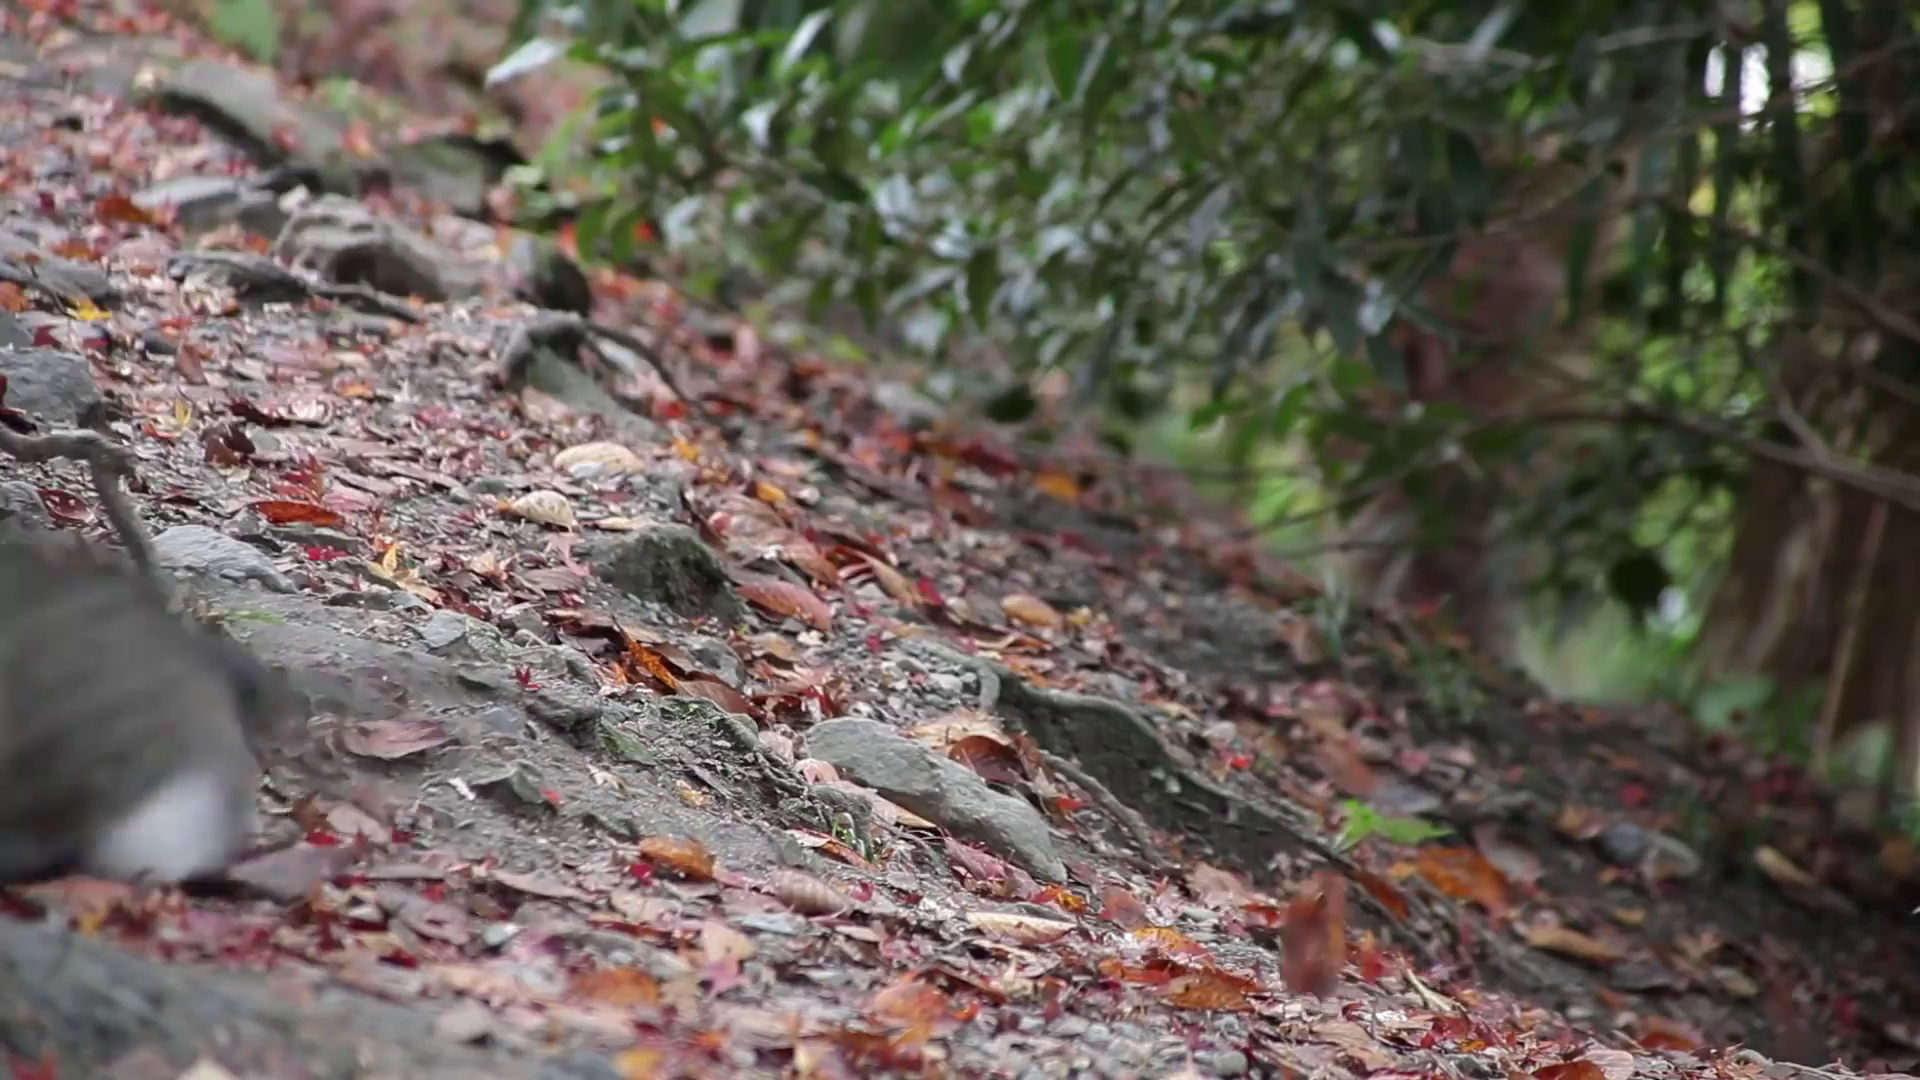black-white: (1, 501, 270, 881)
